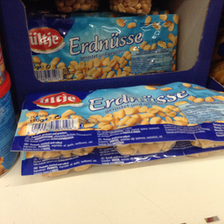nuts: (11, 83, 224, 152), (28, 15, 180, 81)
